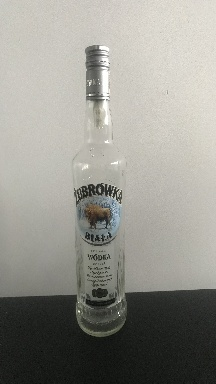butelka: (70, 42, 128, 340)
